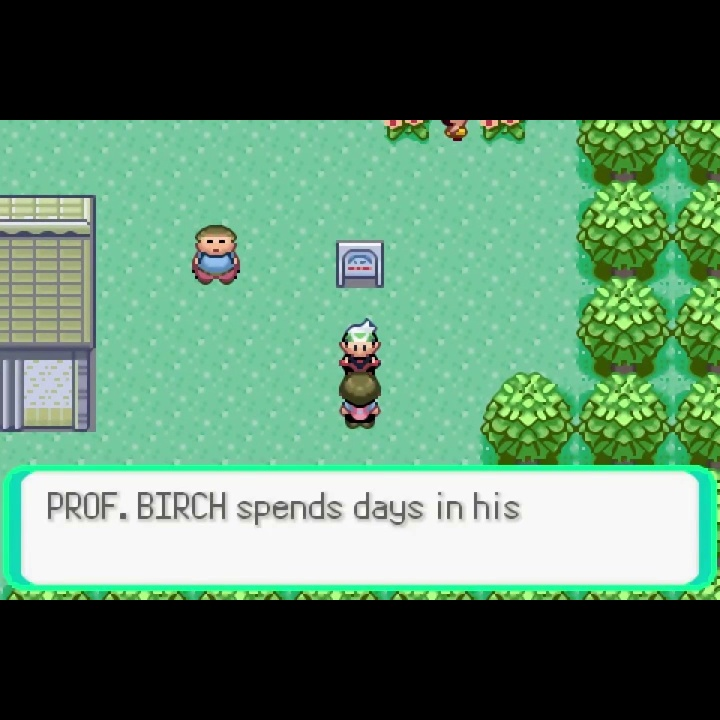house: (1, 194, 97, 438)
npc: (188, 221, 242, 288), (338, 371, 383, 431), (337, 317, 382, 373)
wall: (574, 181, 673, 280), (479, 368, 576, 465), (577, 369, 673, 464), (575, 277, 674, 369), (576, 120, 674, 181), (674, 180, 720, 276), (674, 276, 720, 369), (676, 369, 720, 465), (672, 119, 720, 180)
